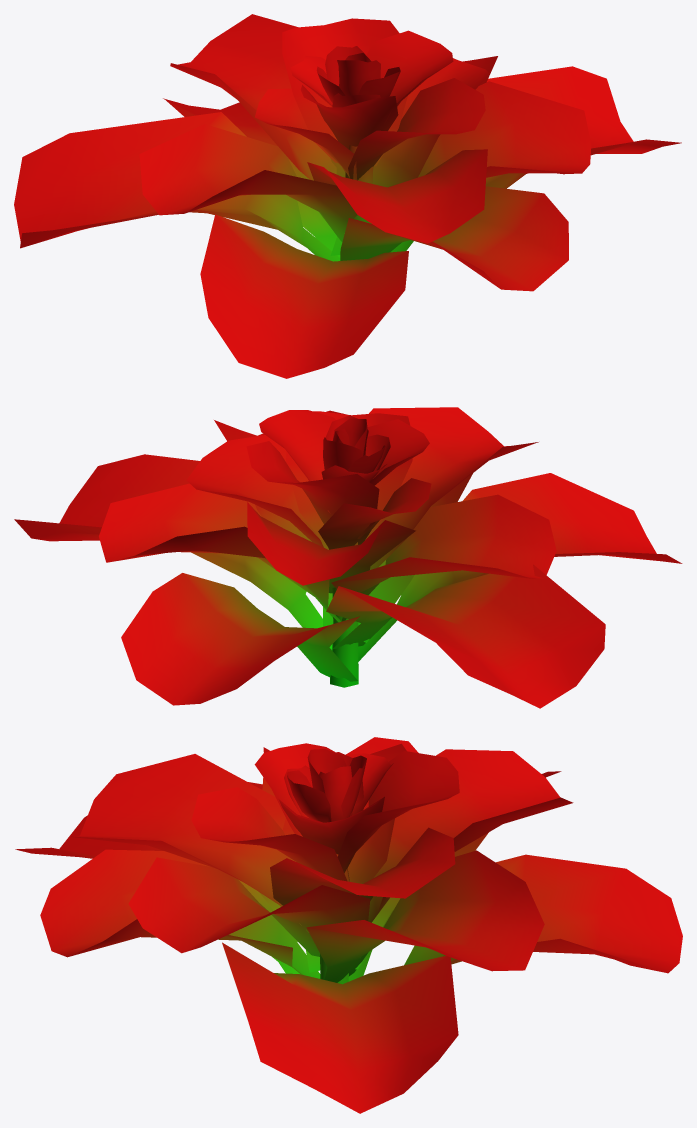
File: White Ornamental Kale_LOD2_Var4_ue3ldcgja.fbx
3 views of the same model, one above another, from view 1: azimuth 30°, elevation 25°; view 2: azimuth 150°, elevation 25°; view 3: azimuth 270°, elevation 25° (orthographic). The views are drawn at different scales.
Visible parts, largest first — view 1: _2213_Var4_LOD2; view 2: _2213_Var4_LOD2; view 3: _2213_Var4_LOD2.
Boxes of the visible parts, <box> form: _2213_Var4_LOD2: <box>14,14,681,378</box>; _2213_Var4_LOD2: <box>14,407,682,708</box>; _2213_Var4_LOD2: <box>15,737,682,1113</box>.
Bounding box in the file's own units: 79.82 × 33.95 × 70.91.
